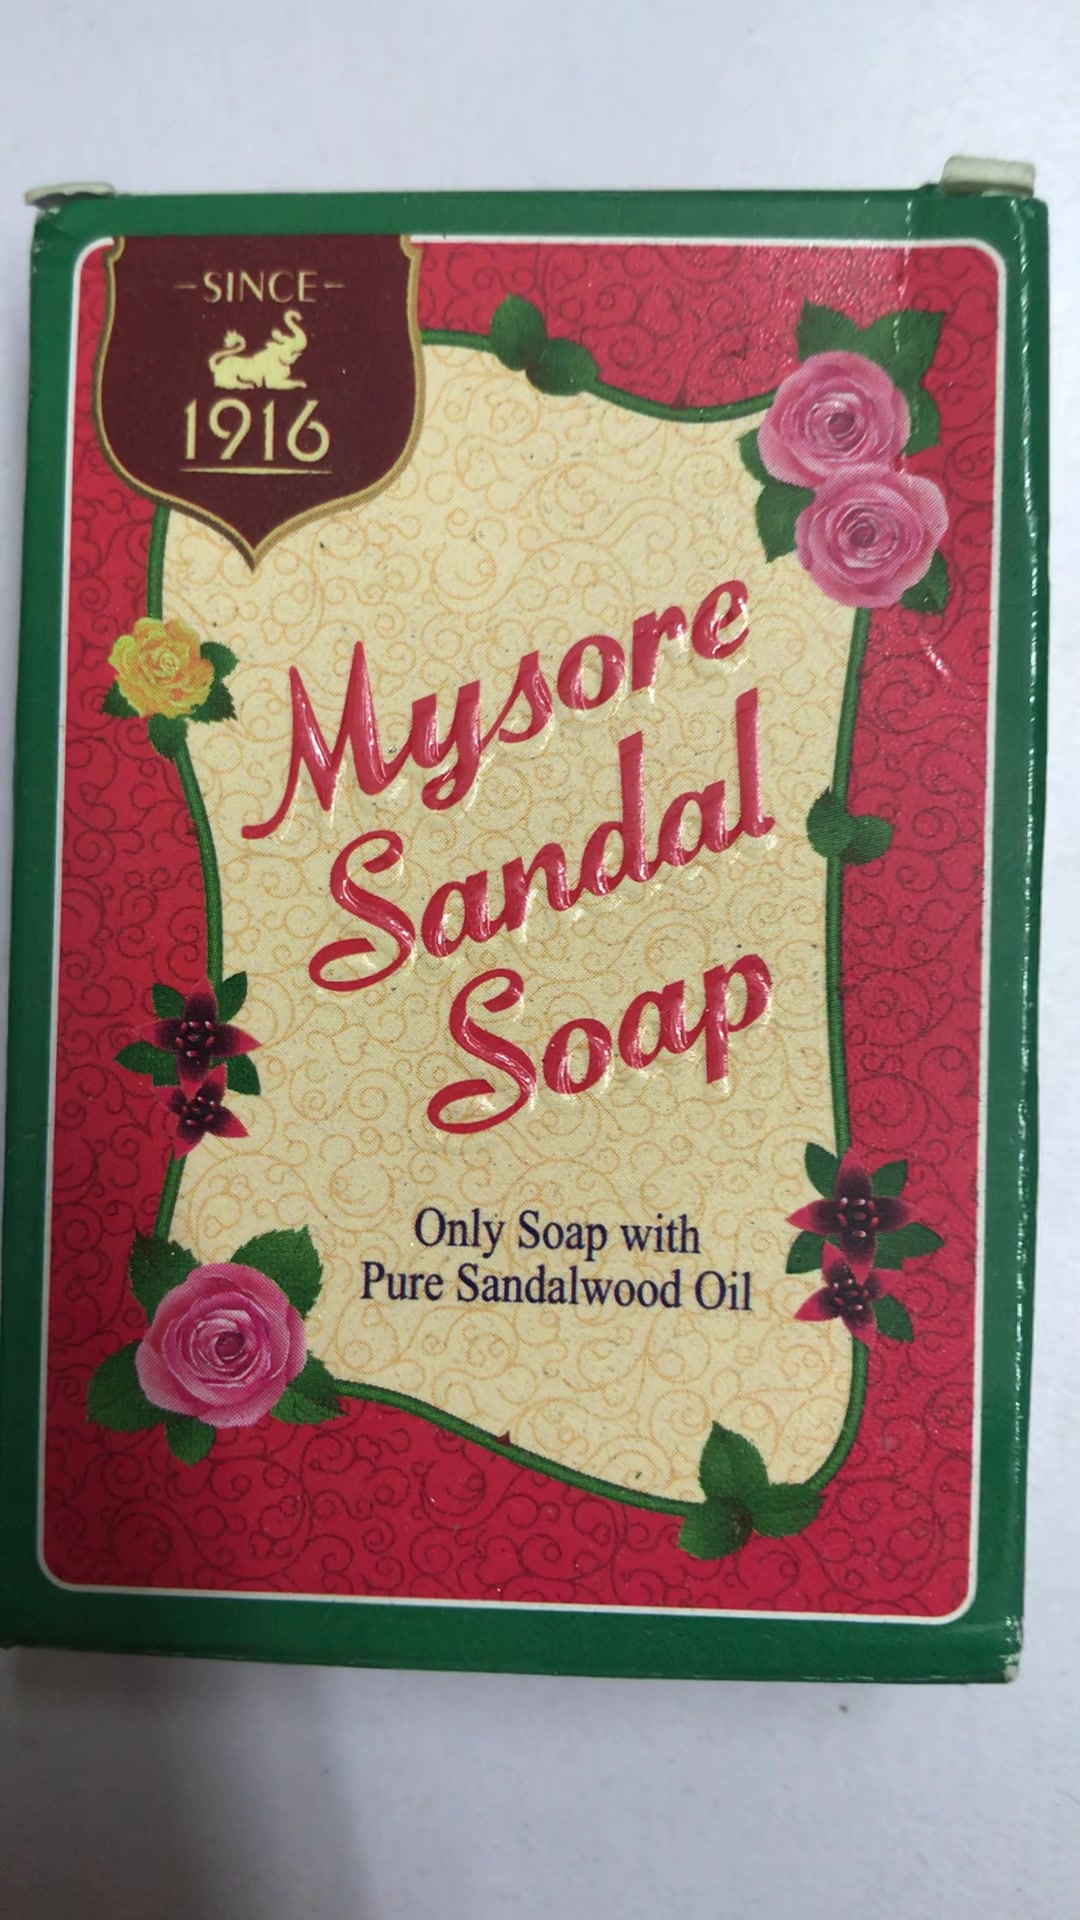mysore sandal soap: (7, 193, 1022, 1677)
